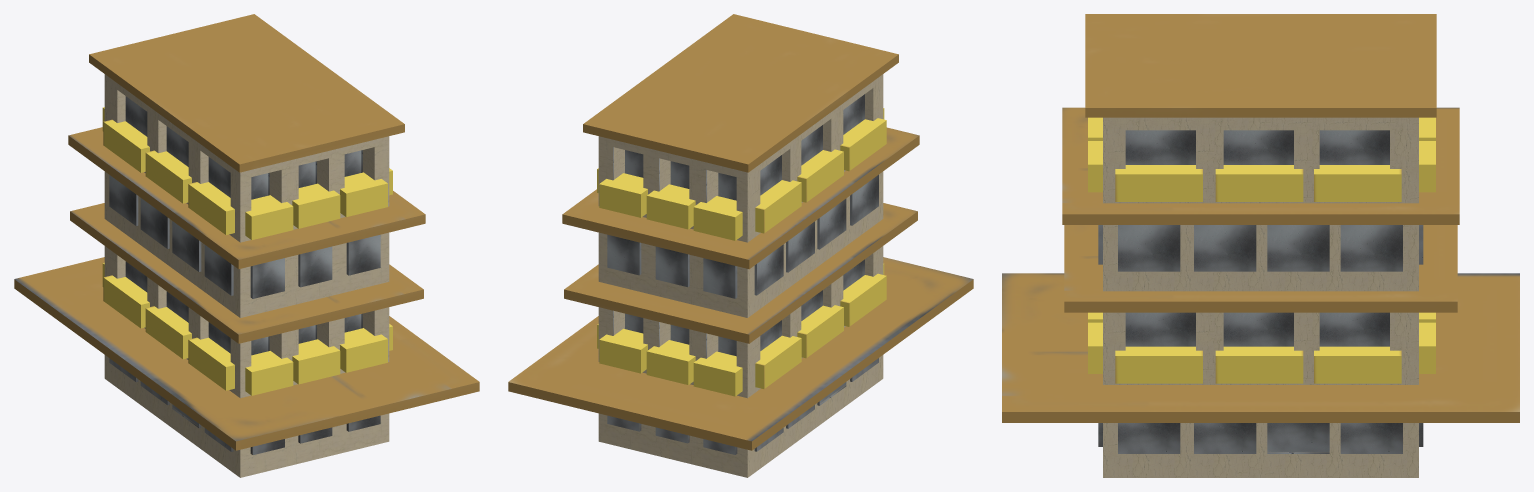
The model's file is HighBuilding_NoDoors.fbx.
3 renders of one model, left to right at view 1: azimuth 30°, elevation 25°; view 2: azimuth 150°, elevation 25°; view 3: azimuth 270°, elevation 25°, orthographic. The views are drawn at different scales.
Parts seen in each view (by area): view 1: polySurface4; view 2: polySurface4; view 3: polySurface4.
Boxes of the visible parts, x1,y1,x2,y2 form: polySurface4: [14, 14, 479, 477]; polySurface4: [508, 14, 973, 477]; polySurface4: [1002, 14, 1519, 477].
Size of the model in its own units: 14.05 by 17.68 by 22.16.
